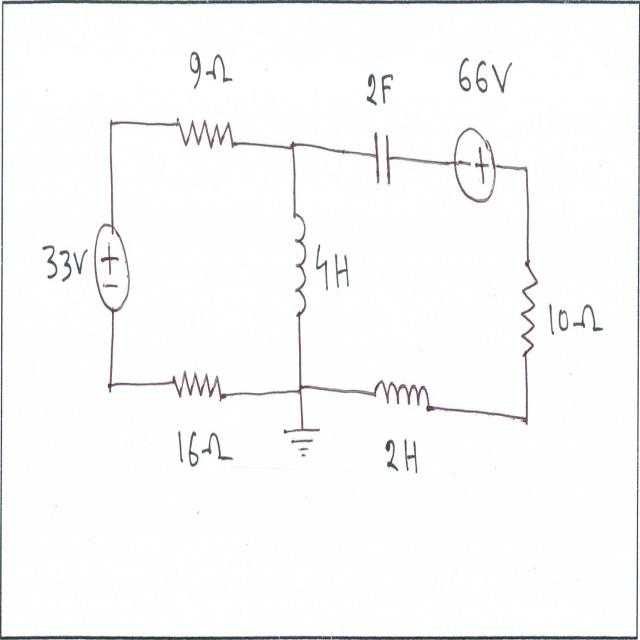capacitor: (370, 128, 395, 193)
ground: (278, 420, 324, 460)
inductor: (371, 366, 436, 425), (289, 203, 311, 334)
resistor: (172, 105, 235, 161), (520, 245, 540, 367), (168, 363, 228, 402)
voltage_source: (90, 216, 134, 318), (451, 126, 500, 204)
